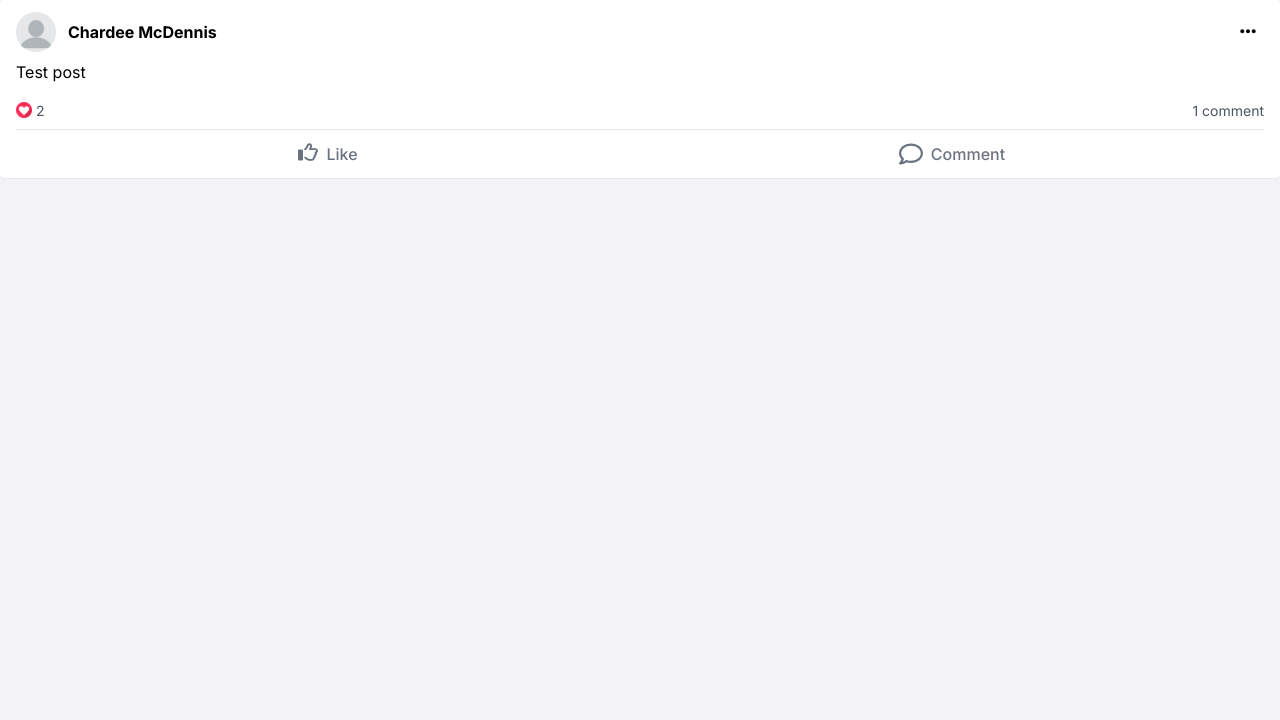
Scenario: Modal tests › Delete post btn opens delete modal
// Open post menu
Click the button with test id "menu": {"x": 1248, "y": 31} [1232,18,1264,44]
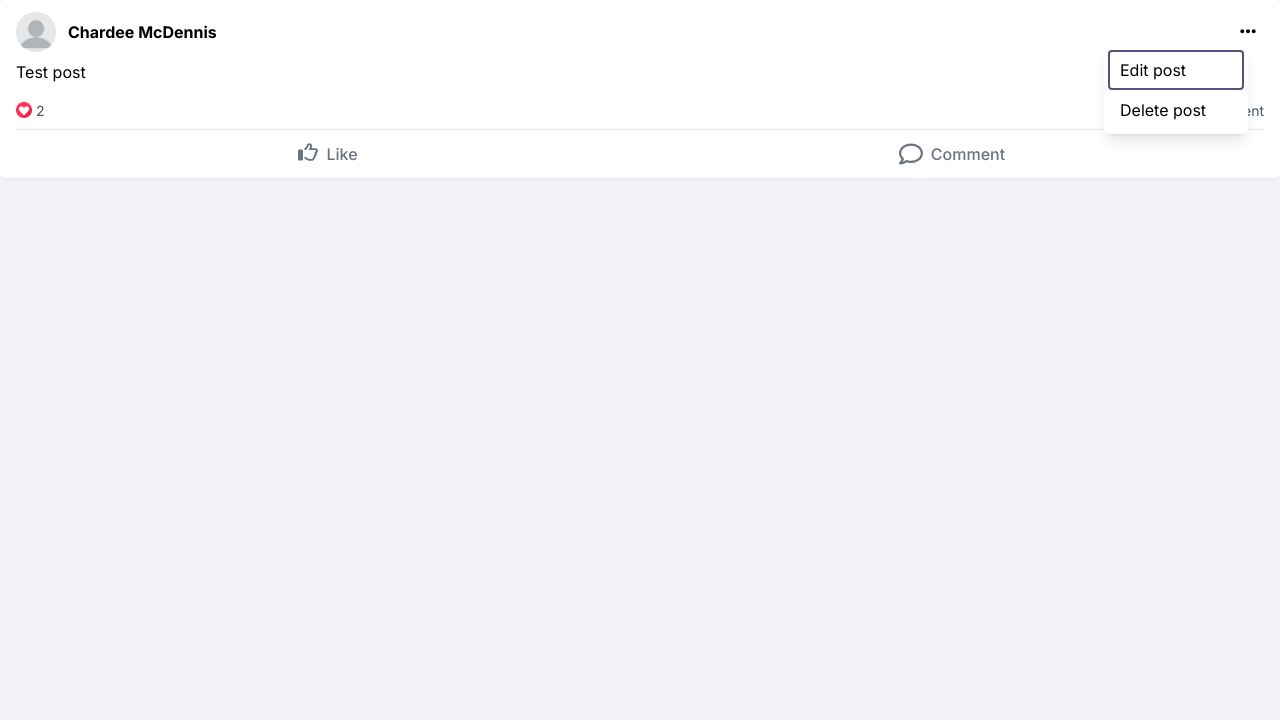
// Click delete post btn
Click the menu item "Delete post": {"x": 1176, "y": 110} [1108,90,1244,130]
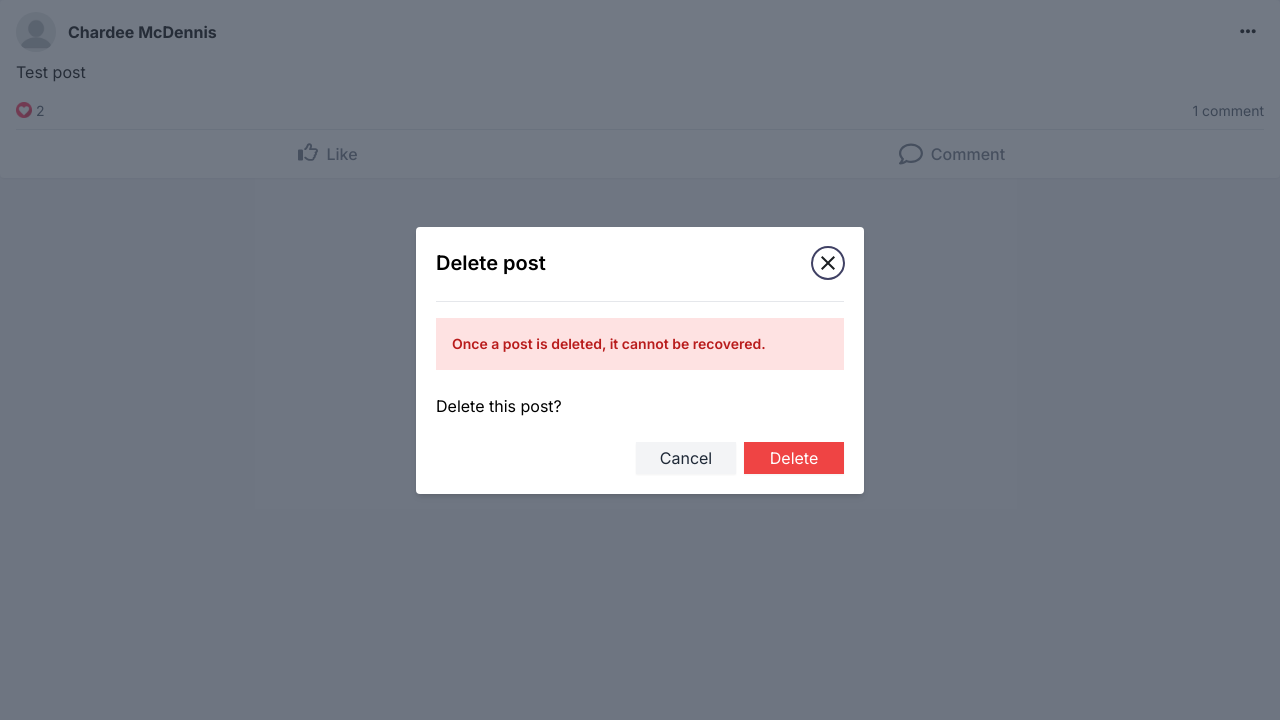
Check: the dialog "Delete post" is shown
